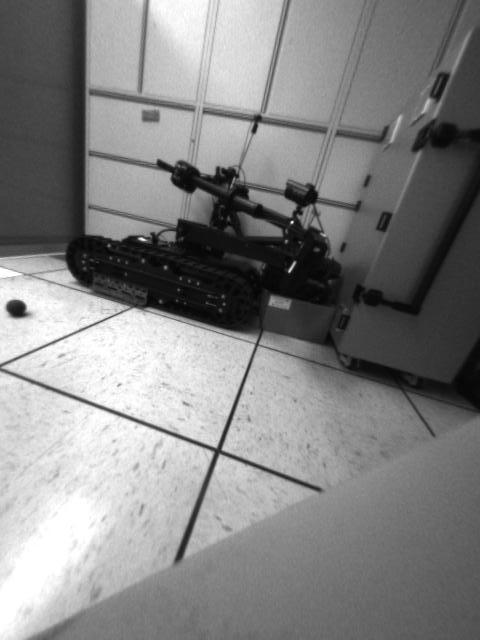dogtoy: (1, 295, 32, 324)
